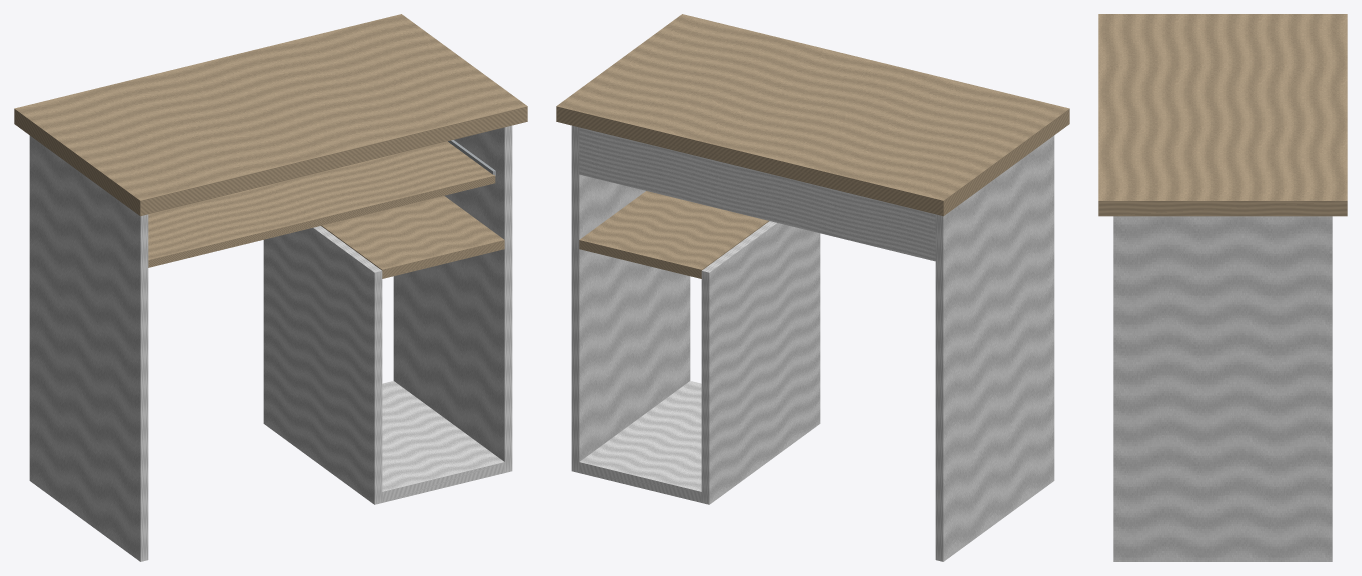
3 views of the same model, side by side, from view 1: azimuth 30°, elevation 25°; view 2: azimuth 150°, elevation 25°; view 3: azimuth 270°, elevation 25° (orthographic).
Parts seen in each view (by area): view 1: 1 desktop, 2 left_side_panel, 6 cpu_inner_panel, 3 right_side_panel, 5 keyboard_tray, 7 cpu_bottom_panel, 8 cpu_shelf_top; view 2: 1 desktop, 2 left_side_panel, 6 cpu_inner_panel, 3 right_side_panel, 4 back_apron, 8 cpu_shelf_top, 7 cpu_bottom_panel; view 3: 3 right_side_panel, 1 desktop.
Part boxes in pixels (box(x1,y1,x2,y2)): 1 desktop: box(14, 14, 527, 216); 2 left_side_panel: box(29, 135, 148, 561); 6 cpu_inner_panel: box(263, 226, 382, 504); 3 right_side_panel: box(393, 125, 512, 472); 5 keyboard_tray: box(148, 141, 495, 267); 7 cpu_bottom_panel: box(382, 381, 504, 502); 8 cpu_shelf_top: box(321, 196, 504, 278); 1 desktop: box(556, 14, 1069, 216); 2 left_side_panel: box(935, 135, 1054, 561); 6 cpu_inner_panel: box(701, 221, 820, 504); 3 right_side_panel: box(571, 125, 690, 472); 4 back_apron: box(579, 127, 935, 261); 8 cpu_shelf_top: box(579, 191, 769, 278); 7 cpu_bottom_panel: box(579, 381, 701, 502); 3 right_side_panel: box(1113, 216, 1332, 561); 1 desktop: box(1098, 14, 1347, 216).
Size of the model in its own units: 1.1 by 1 by 0.62.
3 materials, 2 textured.
